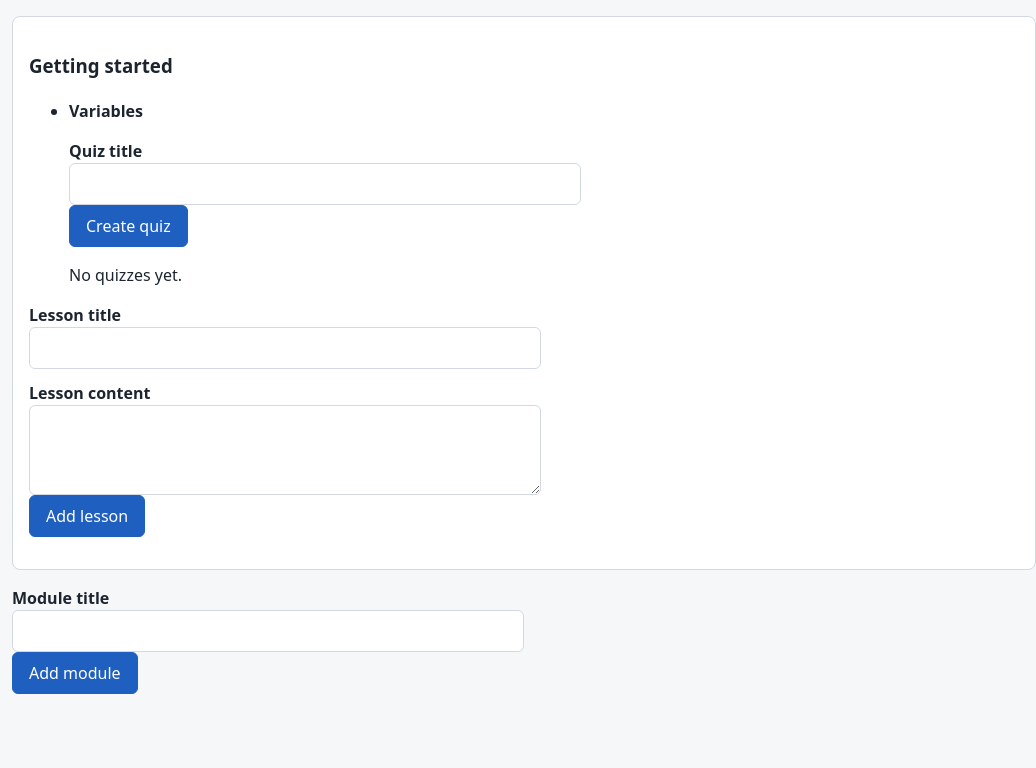
ContentManager › requires titles
Click the button "Add module": (75, 672) x1=12 y1=652 x2=138 y2=694
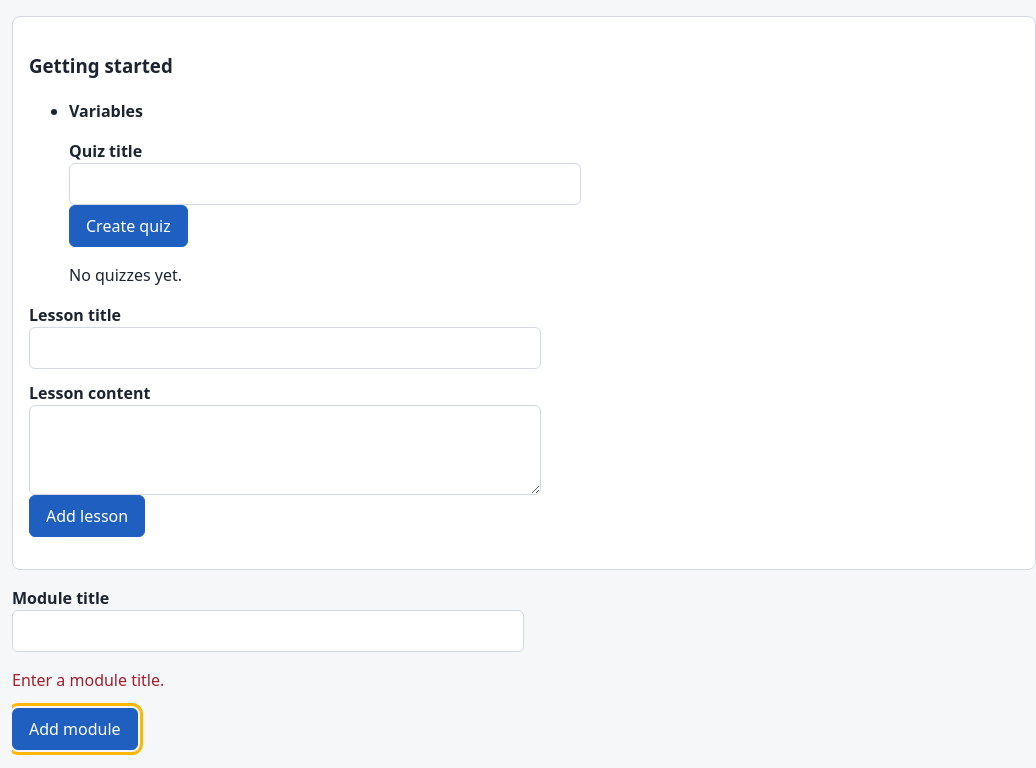
Check: the message "Enter a module title." is shown, box x1=12 y1=668 x2=164 y2=690
